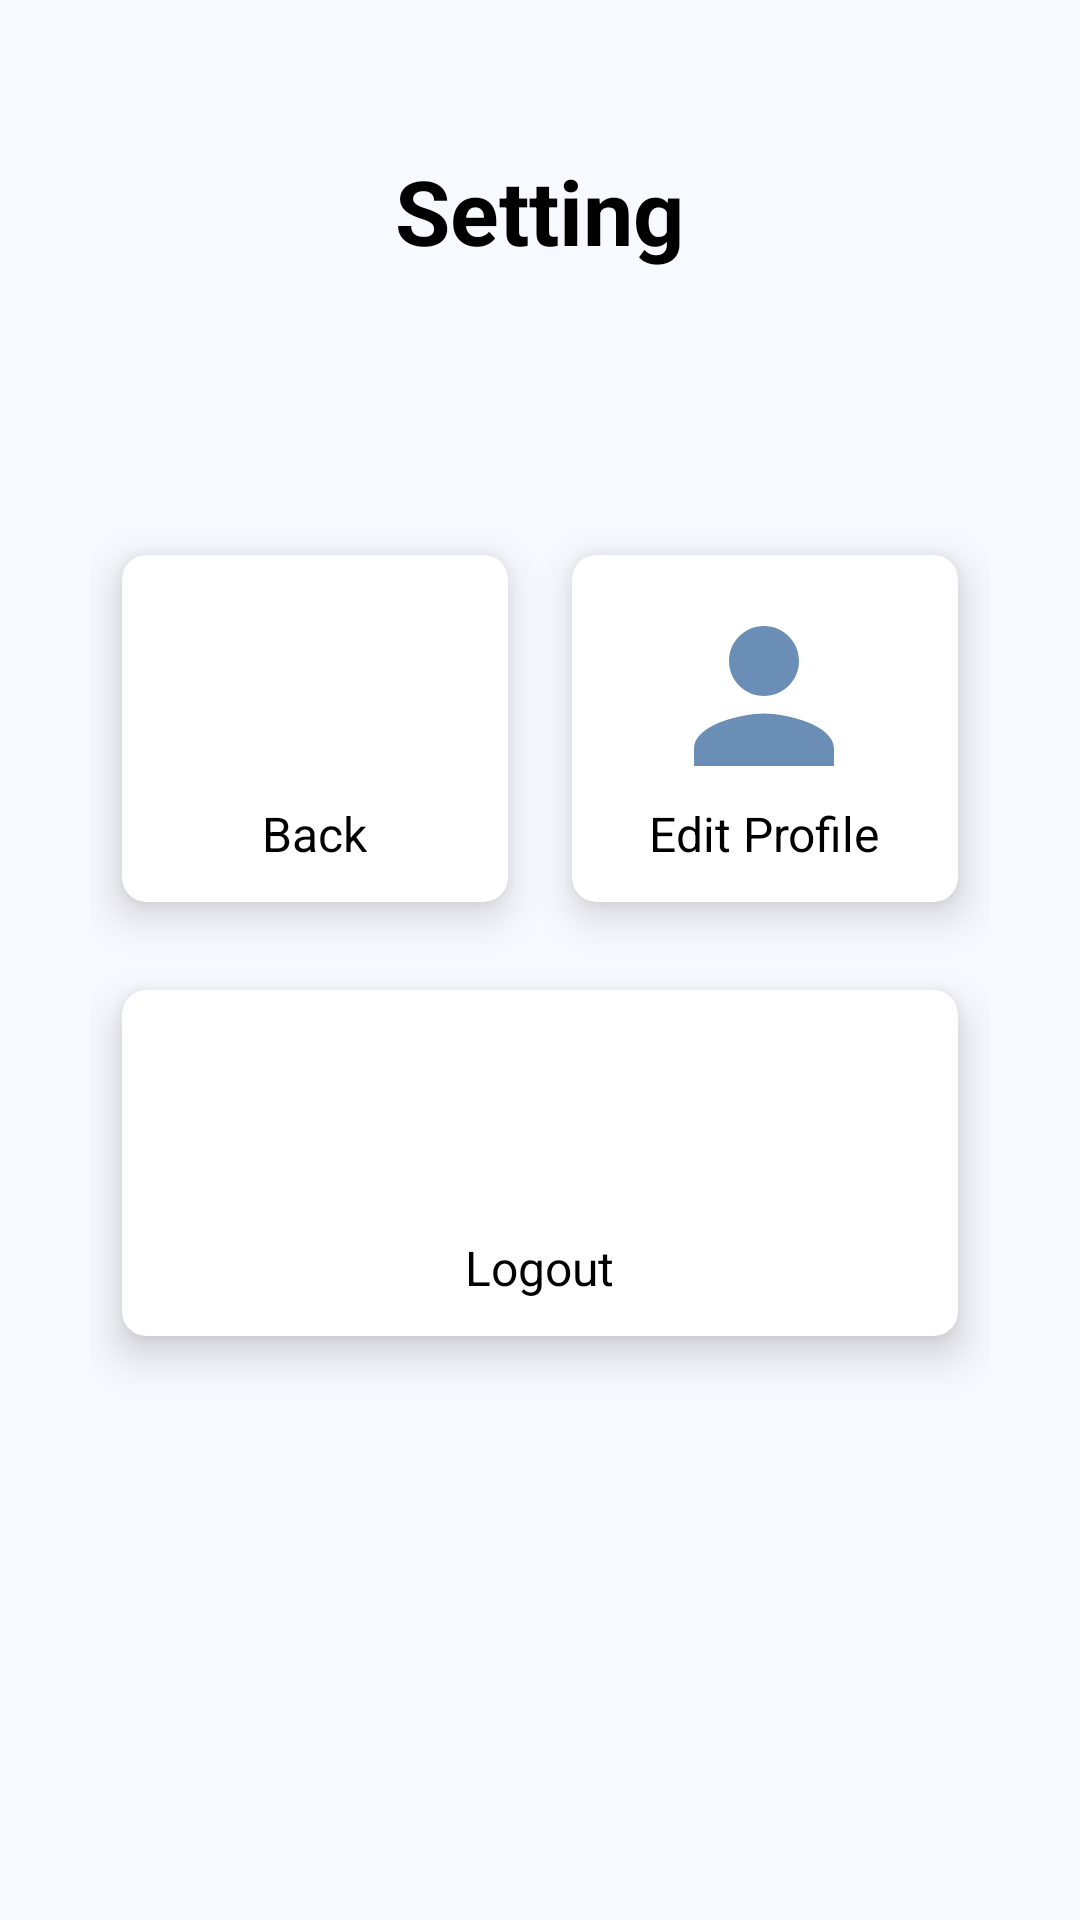

Where to tap for icons on this 1080x1920 app screen, as point (x, y):
account nav: point (764, 696)
